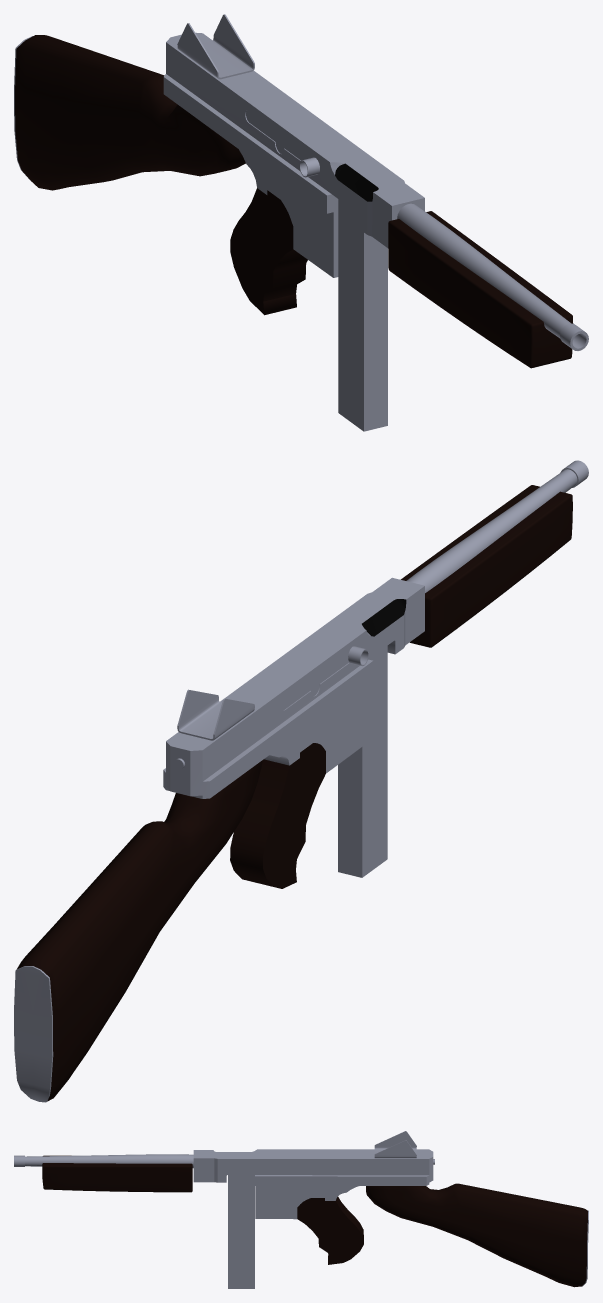
File: For_EX_Thompson.fbx
3 renders of one model, top to bottom at view 1: azimuth 30°, elevation 25°; view 2: azimuth 150°, elevation 25°; view 3: azimuth 270°, elevation 25°, orthographic. The views are drawn at different scales.
Visible parts, largest first — view 1: For_EX_Thompson; view 2: For_EX_Thompson; view 3: For_EX_Thompson.
Boxes of the visible parts, x1,y1,x2,y2 form: For_EX_Thompson: [14, 14, 588, 431]; For_EX_Thompson: [14, 460, 588, 1102]; For_EX_Thompson: [14, 1131, 588, 1288].
Size of the model in its own units: 13.13 by 66.86 by 232.
